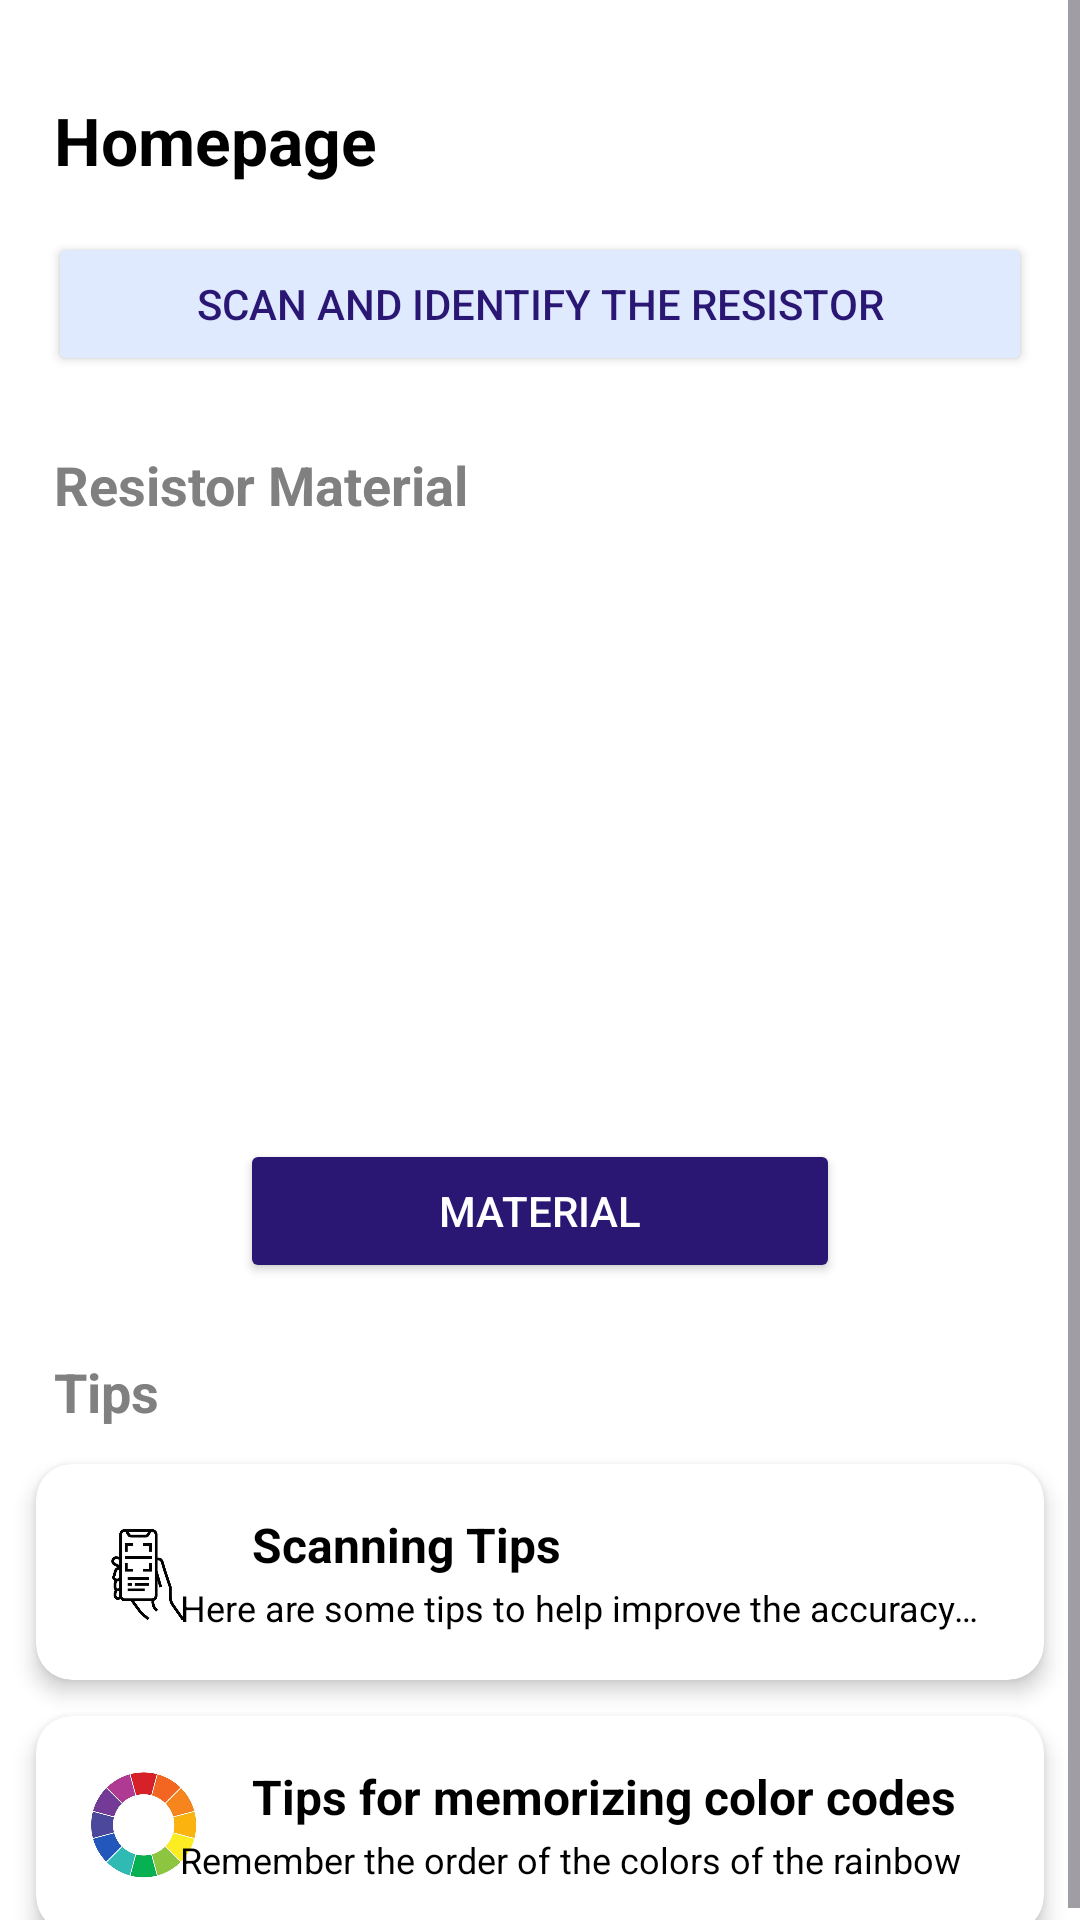

Screen size 1080×1920. Icon name, then its center in pixels as (x=x, y=y):
Image of color wheel: (x=146, y=1825)
Image of scan detect: (x=157, y=1575)
